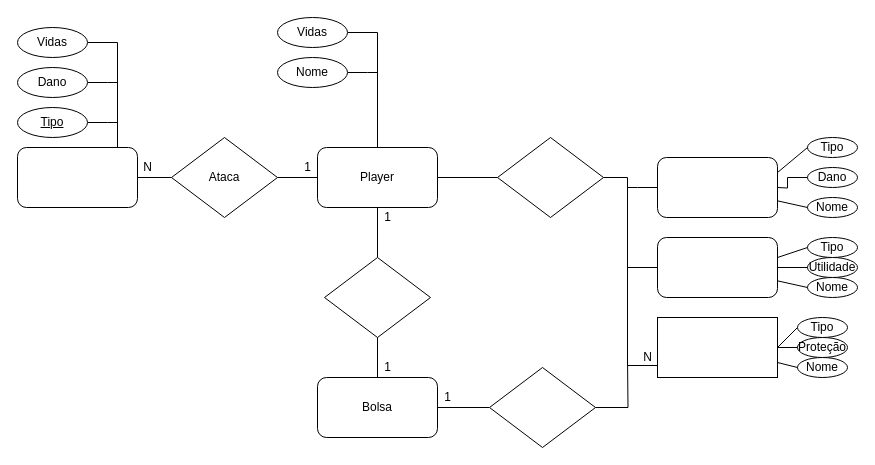
The diagram is 875 pixels wide and 465 high, and some of its shapes have lost their labels. The shapes that lost their labels are listed below. From the top down, each one's centre as x and y in pixels, then its label:
point 77,177: Zumbi
point 550,177: Usa
point 717,187: Armas
point 717,267: Suplementos
point 377,297: Possui
point 717,347: Armadura
point 542,407: Guarda
